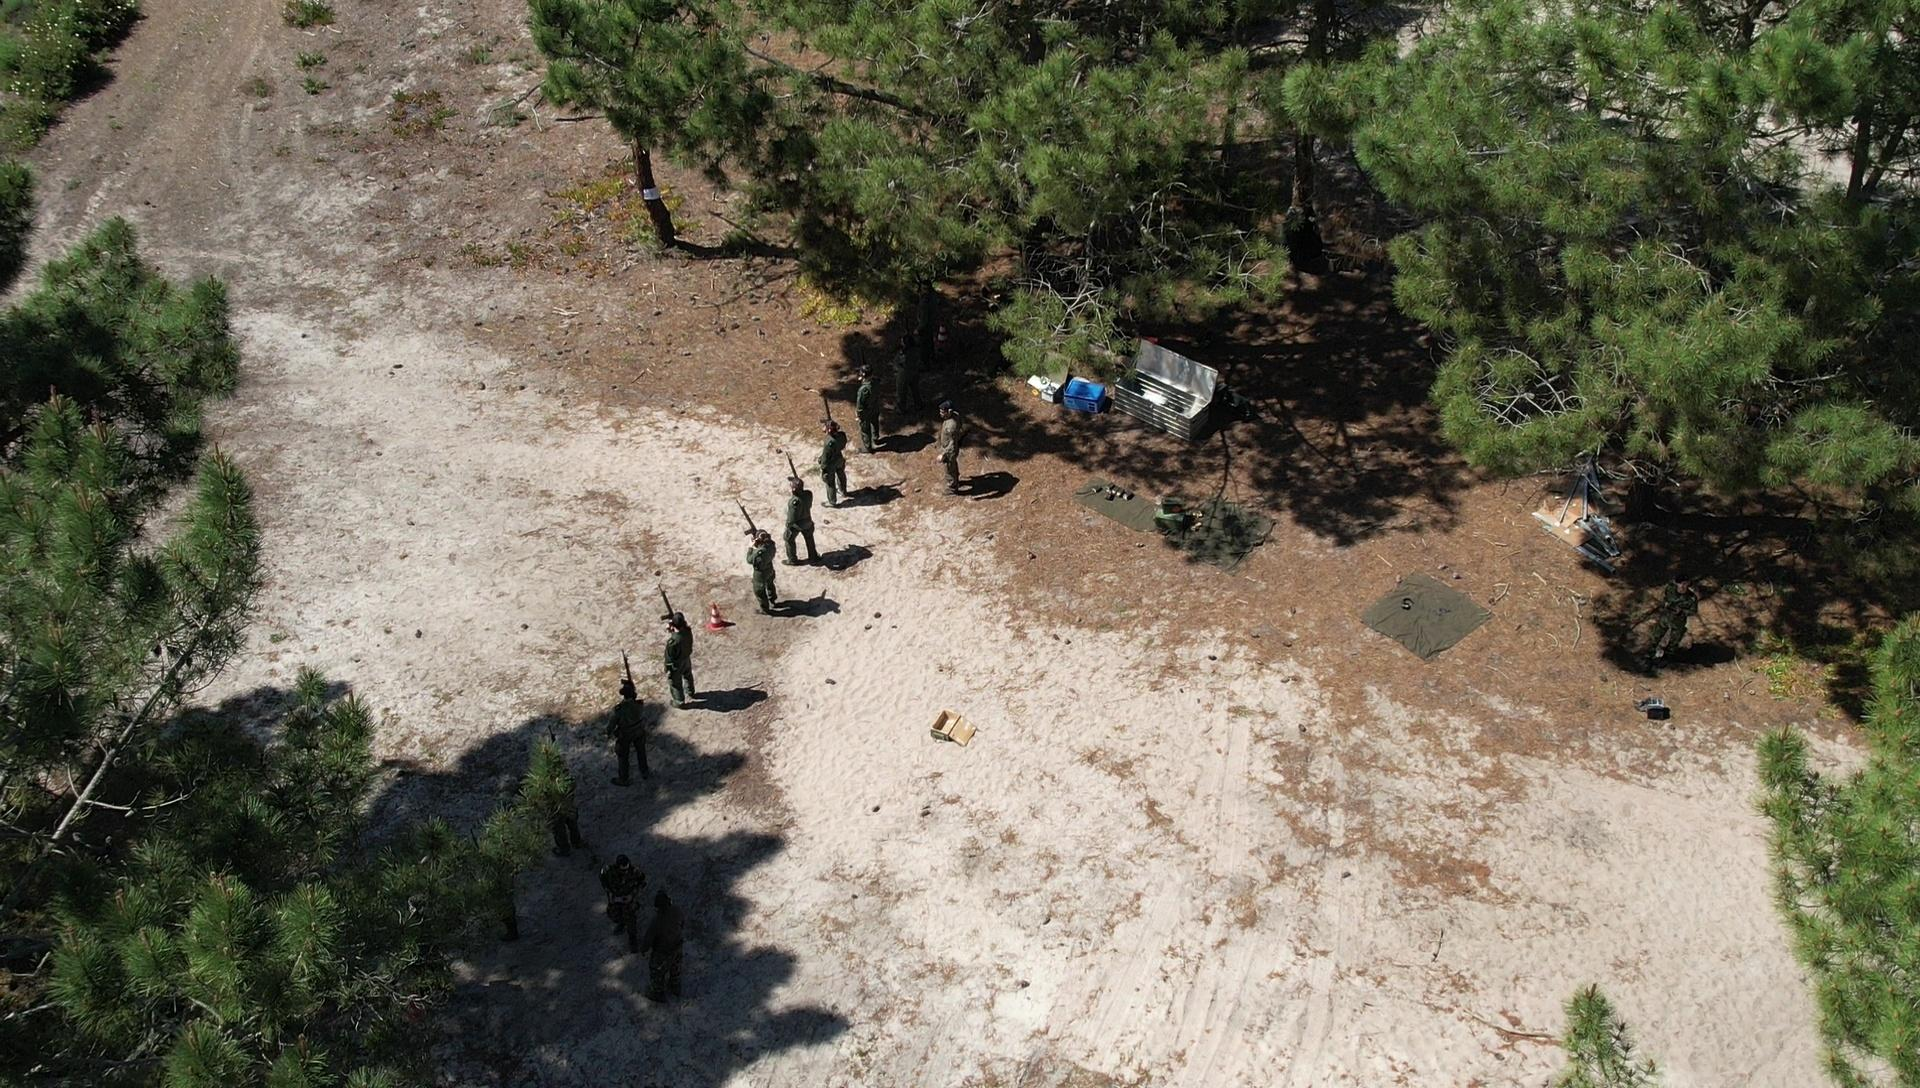Soldier: (607, 657, 655, 810), (637, 894, 691, 1012), (657, 597, 705, 727), (599, 855, 665, 950), (740, 516, 787, 636), (527, 744, 578, 851), (782, 452, 822, 583), (853, 351, 899, 459), (815, 400, 855, 521), (1652, 571, 1701, 659), (931, 406, 973, 506), (894, 328, 926, 429)
